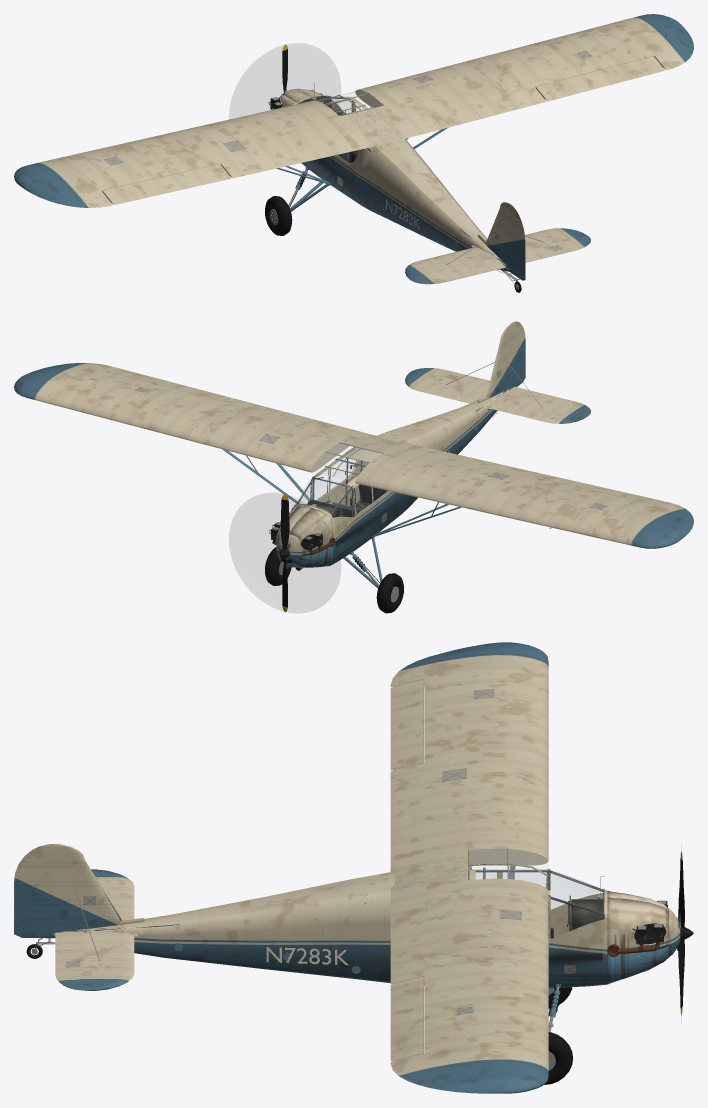
Rendered from cub.glb.
The picture shows the model from 3 angles, top to bottom: view 1: azimuth 30°, elevation 25°; view 2: azimuth 150°, elevation 25°; view 3: azimuth 270°, elevation 25°; orthographic projection. The views are drawn at different scales.
Parts seen in each view (by area): view 1: Wing_panel_R, Wing_panel_L, Skin_L, Disc, Wingtip_L, Turtle_deck, Center_section, Wingtip_R, Aileron_R, Aileron_L, Elevator, Stab_L (+4 smaller); view 2: Wing_panel_R, Wing_panel_L, Disc, Skin_L, Wingtip_L, Wingtip_R, Center_section, Stab_L, Windshield, Stab_R, Elevator, Turtle_deck (+14 smaller); view 3: Wing_panel_L, Wing_panel_R, Skin_R, Wingtip_R, Center_section, Fin, Wingtip_L, Turtle_deck, Rudder, Aileron_L, Stab_R, Aileron_R (+11 smaller).
Boxes of the visible parts, x1,y1,x2,y2 form: Wing_panel_R: (355, 23, 654, 136); Wing_panel_L: (60, 100, 367, 191); Skin_L: (301, 146, 491, 254); Disc: (229, 43, 340, 118); Wingtip_L: (14, 158, 112, 207); Turtle_deck: (376, 139, 496, 256); Center_section: (317, 90, 411, 147); Wingtip_R: (613, 14, 693, 70); Aileron_R: (536, 56, 664, 101); Aileron_L: (102, 164, 231, 204); Elevator: (411, 236, 590, 284); Stab_L: (405, 247, 498, 279); Wing_panel_R: (56, 369, 367, 472); Wing_panel_L: (355, 444, 653, 540); Disc: (229, 493, 340, 612); Skin_L: (326, 396, 499, 563); Wingtip_L: (609, 501, 693, 548); Wingtip_R: (14, 363, 112, 405); Center_section: (312, 433, 410, 481); Stab_L: (491, 392, 588, 423); Windshield: (295, 477, 353, 516); Stab_R: (405, 371, 487, 403); Elevator: (412, 368, 590, 414); Turtle_deck: (377, 393, 499, 442); Wing_panel_L: (390, 669, 548, 865); Wing_panel_R: (390, 878, 548, 1056); Skin_R: (99, 890, 607, 988); Wingtip_R: (390, 1044, 548, 1093); Center_section: (390, 849, 547, 895); Fin: (53, 844, 122, 932); Wingtip_L: (390, 642, 548, 686); Turtle_deck: (89, 872, 395, 929); Rudder: (14, 844, 53, 938); Aileron_L: (390, 679, 423, 770); Stab_R: (85, 929, 134, 990); Aileron_R: (390, 976, 423, 1061).
Size of the model in its own units: 10.74 by 2.26 by 6.89.
24 materials, 8 textured.
